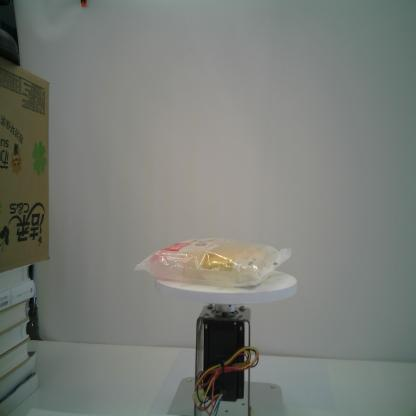Dessert: (132, 237, 291, 288)
